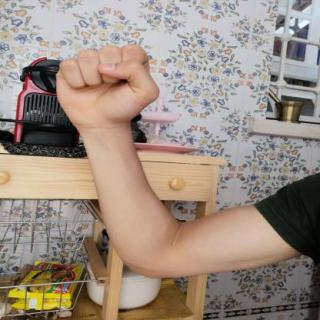SAD: (43, 36, 169, 140)
